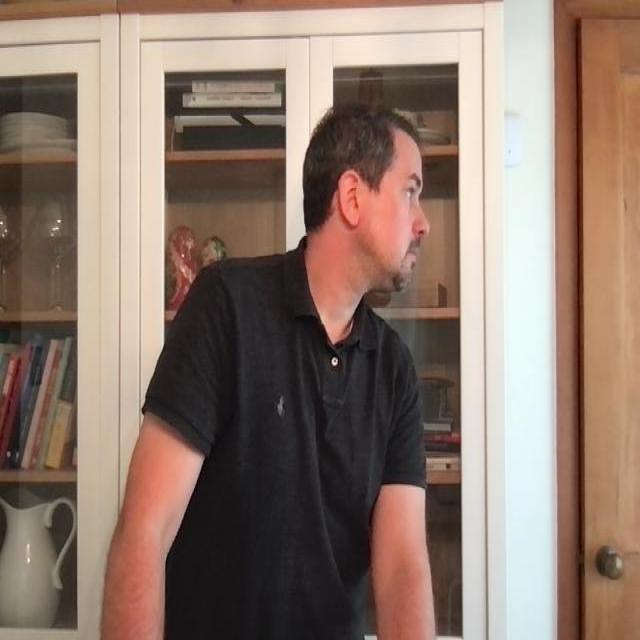face: (300, 101, 428, 299)
